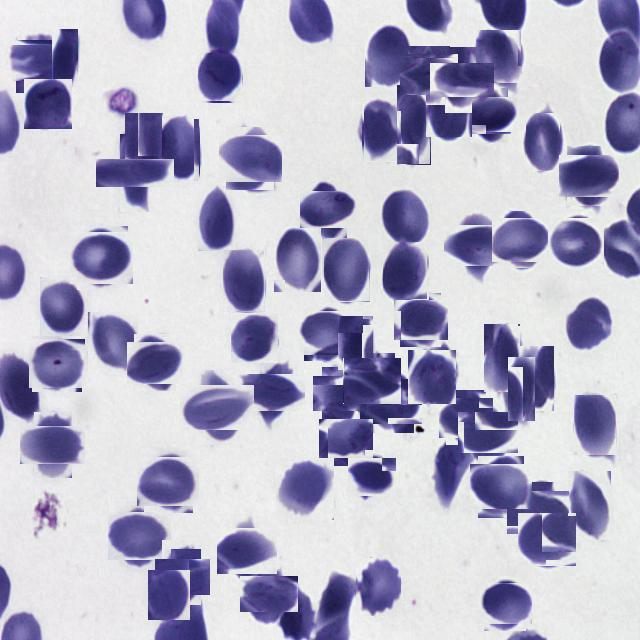red blood cell: (188, 378, 248, 438), (276, 458, 334, 520), (73, 229, 131, 287), (274, 226, 322, 293), (112, 508, 168, 564), (520, 512, 576, 568), (140, 454, 197, 509), (88, 312, 138, 374), (222, 131, 278, 186), (365, 23, 413, 87), (9, 34, 64, 88), (568, 471, 611, 540), (380, 187, 432, 244), (324, 238, 370, 302), (450, 218, 504, 272), (364, 374, 418, 428), (474, 460, 528, 514), (108, 146, 162, 200), (38, 277, 86, 337), (220, 524, 274, 577), (511, 486, 564, 540), (158, 116, 200, 182), (550, 215, 602, 268), (31, 338, 84, 390), (563, 296, 612, 352), (397, 84, 431, 164), (246, 367, 298, 419), (27, 419, 79, 471), (562, 150, 614, 202), (346, 356, 398, 408), (354, 558, 400, 616), (382, 242, 428, 300), (223, 250, 265, 312), (463, 407, 514, 458), (494, 214, 546, 264), (408, 350, 456, 404), (484, 324, 521, 393), (574, 395, 616, 455), (302, 308, 352, 358), (130, 338, 180, 388), (404, 50, 454, 100), (476, 30, 522, 84), (198, 186, 236, 251), (125, 113, 163, 178), (438, 54, 487, 104), (434, 440, 470, 508), (24, 79, 72, 129), (362, 98, 399, 162), (396, 296, 444, 344), (481, 580, 529, 628), (231, 314, 279, 362), (426, 86, 472, 136), (245, 570, 292, 618), (442, 394, 490, 441), (198, 52, 243, 102), (520, 346, 554, 411), (305, 186, 352, 233), (322, 416, 369, 462), (466, 92, 512, 138), (160, 554, 206, 600), (148, 570, 190, 620), (338, 316, 374, 371), (526, 113, 560, 171), (318, 372, 362, 416), (351, 454, 394, 498), (508, 357, 536, 422), (52, 29, 78, 95)
